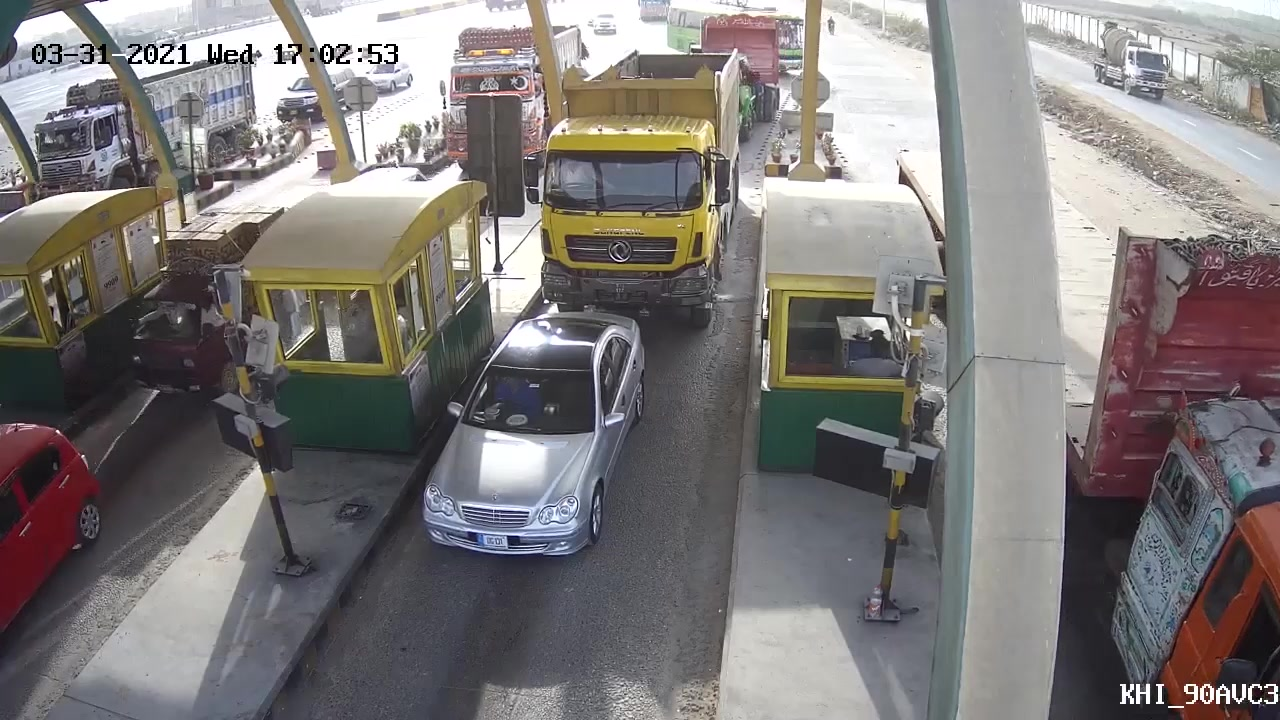F1: (400, 309, 652, 579)
F5: (532, 43, 747, 333)
